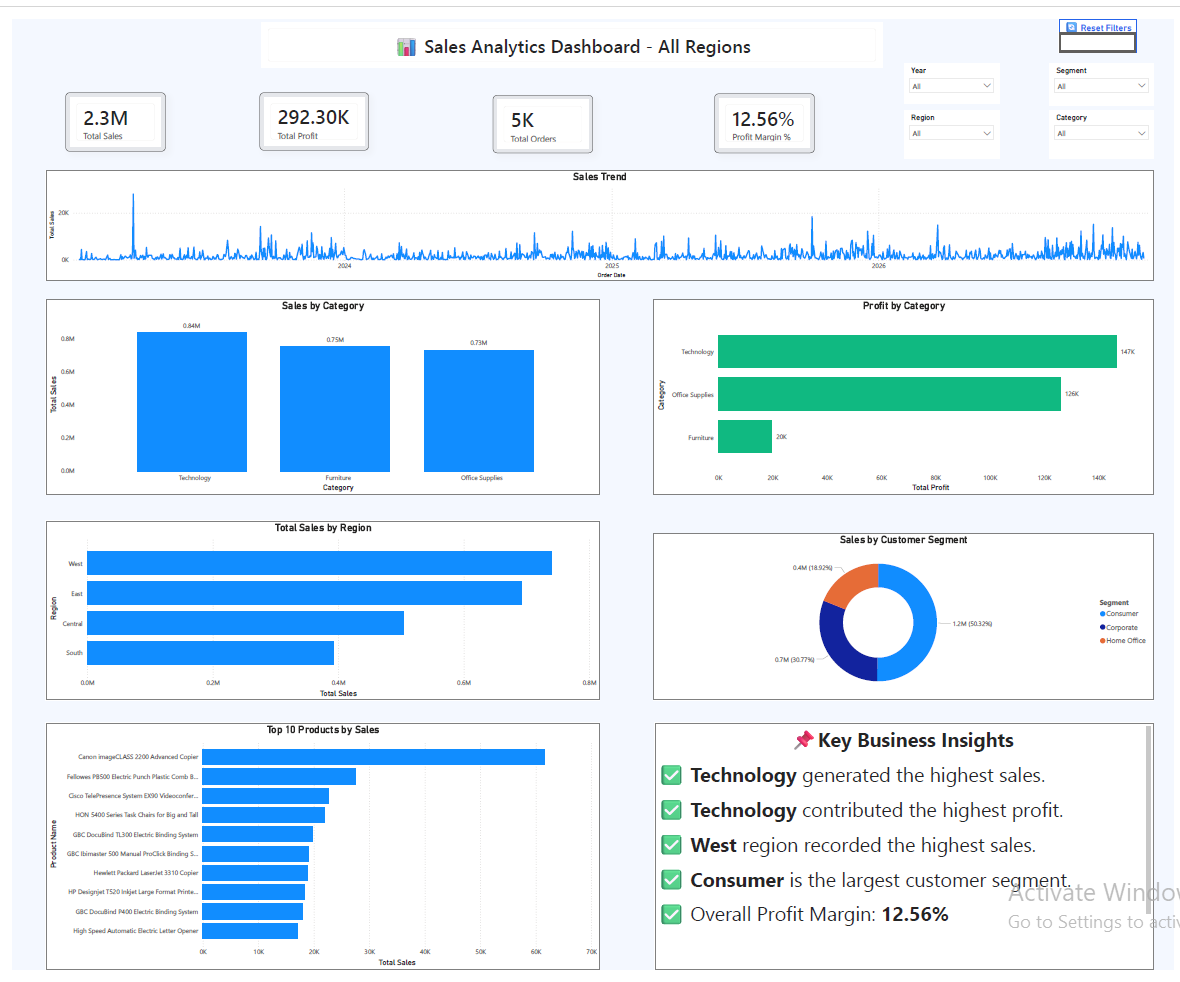

The page's visual inventory and layout, read from the dashboard file:
{"tool":"powerbi","page":{"name":"Page 1","canvas":[2200,1800],"ordinal":0},"visuals":[{"type":"cardVisual","fields":{"Data":["Sales.Total Sales"]},"box":[100,137.5,190,112.5],"z":0},{"type":"cardVisual","fields":{"Data":["Sales.Total Orders"]},"box":[910,142.5,190,110],"z":1000},{"type":"cardVisual","fields":{"Data":["Sales.Profit Margin %"]},"box":[1330,140,190,112.5],"z":2000},{"type":"cardVisual","fields":{"Data":["Sales.Total Profit"]},"box":[467.5,137.5,207.5,110],"z":3000},{"type":"lineChart","title":"Sales Trend","fields":{"Y":["Sales.Total Sales"],"Category":["Sales.Order Date"]},"box":[62.5,285,2100,210],"z":4000},{"type":"clusteredColumnChart","title":"Sales by Category","fields":{"Category":["Sales.Category"],"Y":["Sales.Total Sales"]},"box":[62.5,530,1050,370],"z":5000},{"type":"clusteredBarChart","title":"Profit by Category","fields":{"Category":["Sales.Category"],"Y":["Sales.Total Profit"]},"box":[1215,530,947.5,370],"z":6000},{"type":"clusteredBarChart","fields":{"Category":["Sales.Region"],"Y":["Sales.Total Sales"]},"box":[62.5,950,1050,340],"z":7000},{"type":"donutChart","title":"Sales by Customer Segment","fields":{"Y":["Sales.Total Sales"],"Category":["Sales.Segment"]},"box":[1215,972.5,947.5,317.5],"z":8000},{"type":"barChart","title":" Top 10 Products by Sales","fields":{"Category":["Sales.Product Name"],"Y":["Sales.Total Sales"]},"box":[62.5,1332.5,1050,467.5],"z":9000},{"type":"slicer","fields":{"Values":["Sales.Segment"]},"box":[1965,82.5,197.5,80],"z":10000},{"type":"slicer","fields":{"Values":["Sales.Region"]},"box":[1690,172.5,180,90],"z":11000},{"type":"slicer","fields":{"Values":["Sales.Category"]},"box":[1965,172.5,197.5,90],"z":12000},{"type":"slicer","fields":{"Values":["Sales.Order Date.Variation.Date Hierarchy.Year"]},"box":[1690,82.5,180,75],"z":13000},{"type":"textbox","box":[1216.7,1333.3,946.7,466.7],"z":14000},{"type":"actionButton","title":"🔄 Reset Filters","box":[1982.5,0,147.5,62.5],"z":15000},{"type":"cardVisual","fields":{"Data":["Sales.Dashboard Title"]},"box":[466.7,0,1186.7,96.7],"z":16000}]}

Visuals, with their boxes in screenshot pixels (x1, y1, x2, y2), scaled from the page's 2200x1800 canvas onto the 1180x982 screenshot:
cardVisual - Sales.Total Sales: 54, 75, 156, 136
cardVisual - Sales.Total Orders: 488, 78, 590, 138
cardVisual - Sales.Profit Margin %: 713, 76, 815, 138
cardVisual - Sales.Total Profit: 251, 75, 362, 135
"Sales Trend" lineChart: 34, 155, 1160, 270
"Sales by Category" clusteredColumnChart: 34, 289, 597, 491
"Profit by Category" clusteredBarChart: 652, 289, 1160, 491
clusteredBarChart - Sales.Region x Sales.Total Sales: 34, 518, 597, 704
"Sales by Customer Segment" donutChart: 652, 531, 1160, 704
" Top 10 Products by Sales" barChart: 34, 727, 597, 981
slicer - Sales.Segment: 1054, 45, 1160, 89
slicer - Sales.Region: 906, 94, 1003, 143
slicer - Sales.Category: 1054, 94, 1160, 143
slicer - Sales.Order Date.Variation.Date Hierarchy.Year: 906, 45, 1003, 86
textbox: 653, 727, 1160, 981
"🔄 Reset Filters" actionButton: 1063, 0, 1142, 34
cardVisual - Sales.Dashboard Title: 250, 0, 887, 53
